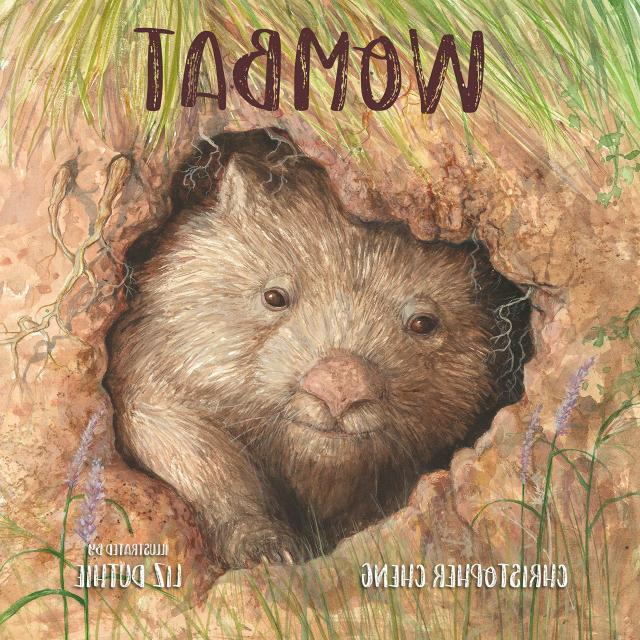wombats: (106, 128, 499, 568)
